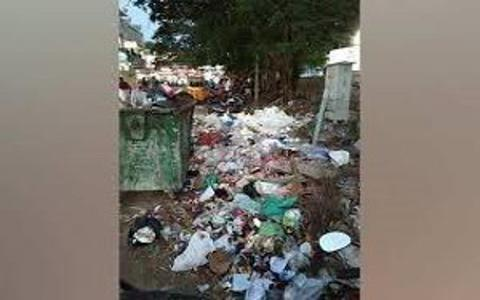overflowing garbage: (120, 86, 233, 224)
